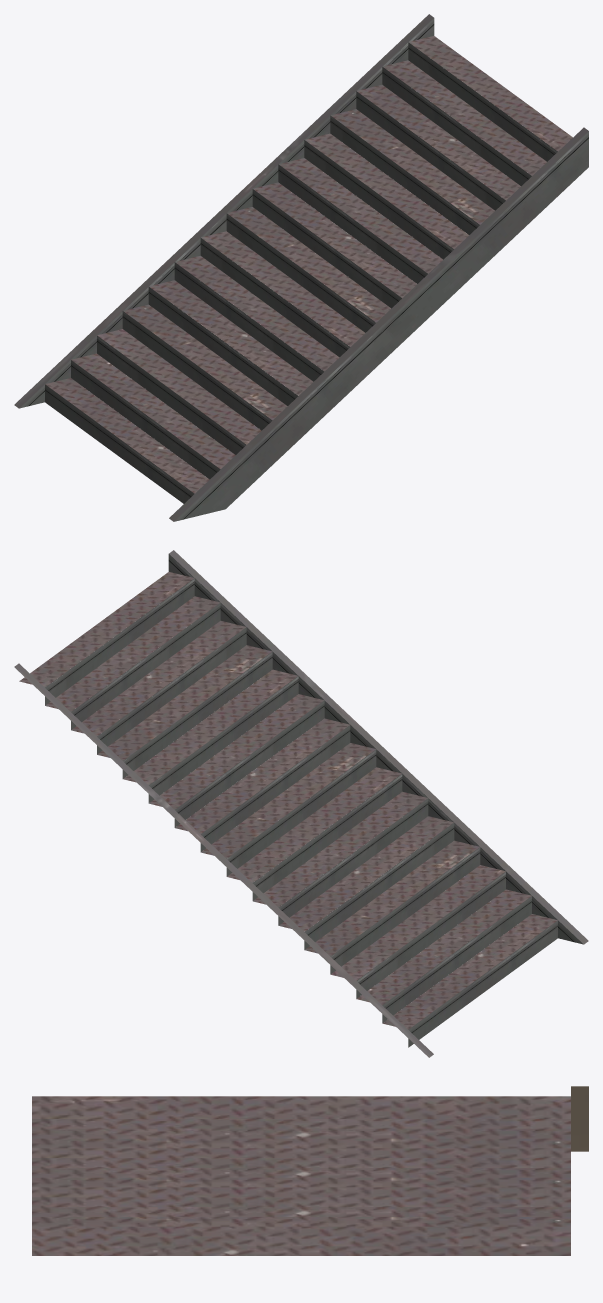
3 renders of one model, top to bottom at view 1: azimuth 30°, elevation 25°; view 2: azimuth 150°, elevation 25°; view 3: azimuth 270°, elevation 25°, orthographic. The views are drawn at different scales.
Parts seen in each view (by area): view 1: body0_model0_lod0_mesh0, body0_model0_lod0_mesh1, body0_model0_lod0_mesh3; view 2: body0_model0_lod0_mesh1, body0_model0_lod0_mesh0, body0_model0_lod0_mesh3; view 3: body0_model0_lod0_mesh1, body0_model0_lod0_mesh2.
Part boxes in pixels (left/top/right/bottom): body0_model0_lod0_mesh0: left=19, top=18, right=588, bottom=521; body0_model0_lod0_mesh1: left=45, top=36, right=572, bottom=493; body0_model0_lod0_mesh3: left=14, top=14, right=588, bottom=521; body0_model0_lod0_mesh1: left=19, top=572, right=557, bottom=1029; body0_model0_lod0_mesh0: left=45, top=554, right=583, bottom=1047; body0_model0_lod0_mesh3: left=14, top=550, right=588, bottom=1057; body0_model0_lod0_mesh1: left=32, top=1096, right=570, bottom=1255; body0_model0_lod0_mesh2: left=571, top=1086, right=588, bottom=1151.
Size of the model in its own units: 192 by 128 by 128.
Materials: 4 (4 with a texture image).
